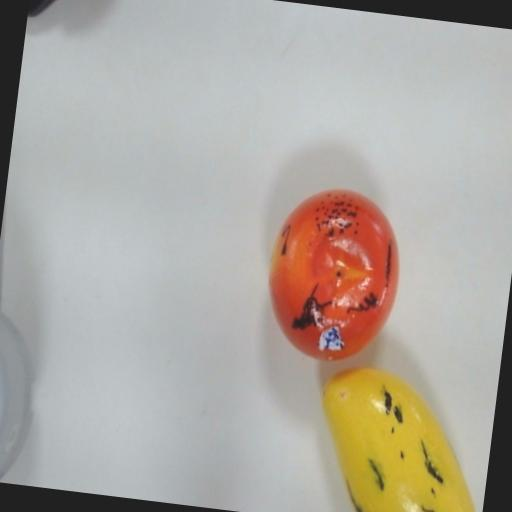Defective: (321, 363, 479, 512), (269, 187, 401, 361)
